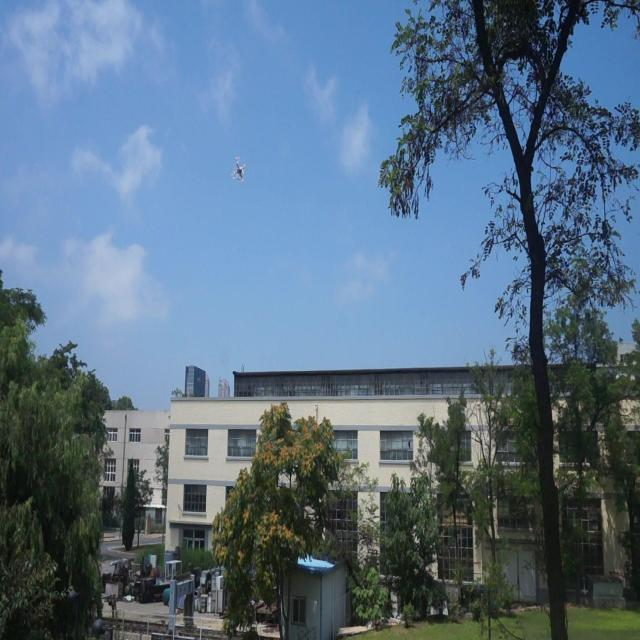drone: (228, 151, 249, 188)
